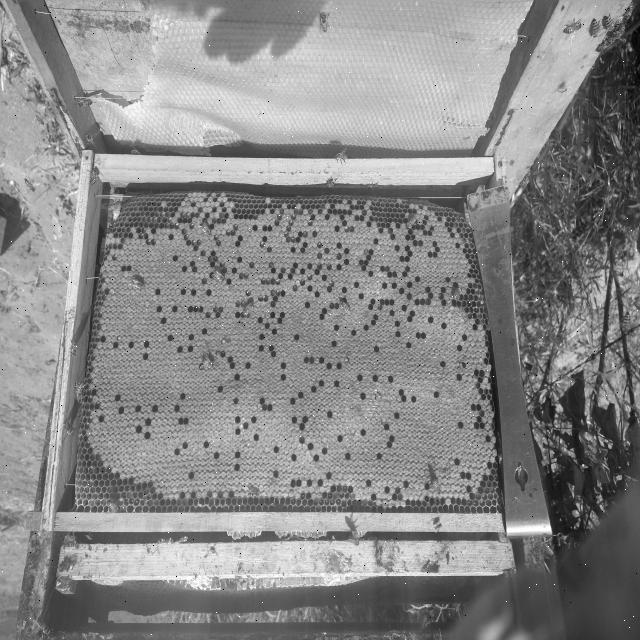cria: (83, 192, 498, 509)
marco: (61, 181, 520, 512)
